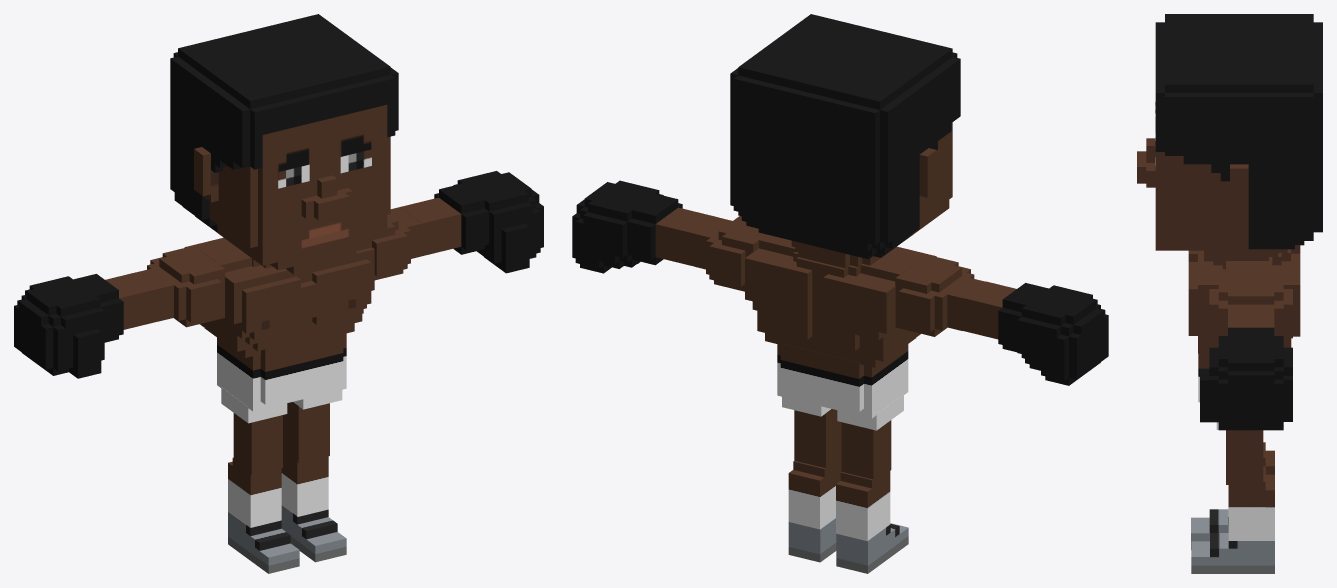
Rendered from cash.fbx.
The picture shows the model from 3 angles, left to right: view 1: azimuth 30°, elevation 25°; view 2: azimuth 150°, elevation 25°; view 3: azimuth 270°, elevation 25°; orthographic projection. The views are drawn at different scales.
Parts seen in each view (by area): view 1: head, gloves-c3, chest, shorts-c3, arms, calves, shoes, forearms; view 2: head, chest, gloves-c3, shorts-c3, arms, calves, forearms, shoes, neck; view 3: head, gloves-c3, chest, arms, shoes, calves, shorts-c3, neck, forearms.
Boxes of the visible parts, x1,y1,x2,y2 form: head: (170,14,398,274); gloves-c3: (14,171,543,378); chest: (184,237,374,371); shorts-c3: (217,344,346,475); arms: (136,207,422,327); calves: (228,449,328,527); shoes: (228,505,346,573); forearms: (105,197,461,329); head: (730,14,960,259); chest: (745,234,936,378); gloves-c3: (572,180,1108,385); shorts-c3: (777,351,908,482); arms: (695,216,984,336); calves: (788,457,890,541); forearms: (655,207,1016,339); shoes: (788,518,908,573); neck: (791,240,892,276); head: (1137,14,1322,250); gloves-c3: (1200,327,1292,430); chest: (1188,245,1300,368); arms: (1209,276,1292,338); shoes: (1191,509,1274,573); calves: (1228,442,1274,540); shorts-c3: (1198,368,1263,484); neck: (1204,249,1287,269); forearms: (1228,316,1274,327).
Size of the model in its own units: 640 by 599 by 200.
1 material, 1 textured.
